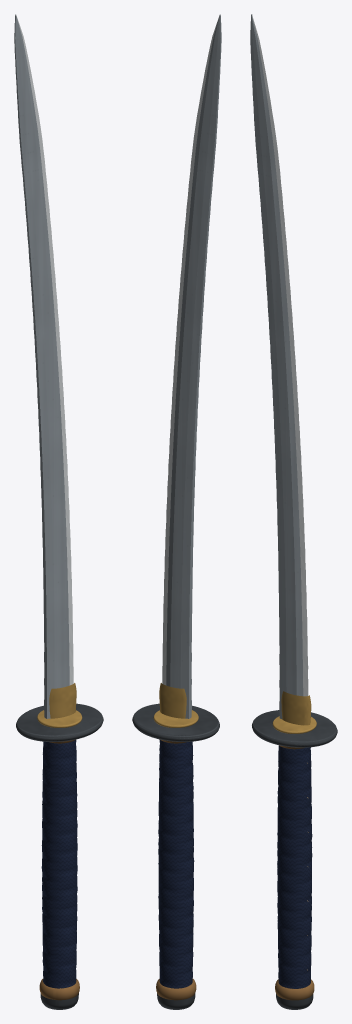
File: katana.glb
3 views of the same model, side by side, from view 1: azimuth 30°, elevation 25°; view 2: azimuth 150°, elevation 25°; view 3: azimuth 330°, elevation 25° (orthographic). The views are drawn at different scales.
Parts seen in each view (by area): view 1: steel / forged blade steel, cord / waxed silk cord wrap, edge / honed bright bevel, darksteel / oil-blackened fittings, brass / polished brass furniture, bronze / cast bronze with patina; view 2: steel / forged blade steel, cord / waxed silk cord wrap, edge / honed bright bevel, darksteel / oil-blackened fittings, brass / polished brass furniture, bronze / cast bronze with patina; view 3: steel / forged blade steel, cord / waxed silk cord wrap, edge / honed bright bevel, darksteel / oil-blackened fittings, brass / polished brass furniture, bronze / cast bronze with patina.
Part boxes in pixels (x1=…): steel / forged blade steel: x1=14, y1=14, x2=69, y2=718; cord / waxed silk cord wrap: x1=41, y1=740, x2=77, y2=988; edge / honed bright bevel: x1=16, y1=16, x2=73, y2=685; darksteel / oil-blackened fittings: x1=16, y1=703, x2=103, y2=1009; brass / polished brass furniture: x1=37, y1=683, x2=82, y2=727; bronze / cast bronze with patina: x1=39, y1=739, x2=79, y2=1000; steel / forged blade steel: x1=166, y1=14, x2=221, y2=718; cord / waxed silk cord wrap: x1=158, y1=739, x2=194, y2=988; edge / honed bright bevel: x1=162, y1=16, x2=219, y2=685; darksteel / oil-blackened fittings: x1=132, y1=703, x2=219, y2=1009; brass / polished brass furniture: x1=153, y1=683, x2=198, y2=727; bronze / cast bronze with patina: x1=156, y1=739, x2=196, y2=1000; steel / forged blade steel: x1=250, y1=14, x2=303, y2=718; cord / waxed silk cord wrap: x1=277, y1=745, x2=312, y2=988; edge / honed bright bevel: x1=252, y1=15, x2=308, y2=696; darksteel / oil-blackened fittings: x1=252, y1=710, x2=337, y2=1009; brass / polished brass furniture: x1=272, y1=691, x2=316, y2=733; bronze / cast bronze with patina: x1=275, y1=745, x2=314, y2=1000.
Bounding box in the file's own units: 0.0898 × 1.01 × 0.0689.
Materials: 8 (6 with a texture image).
